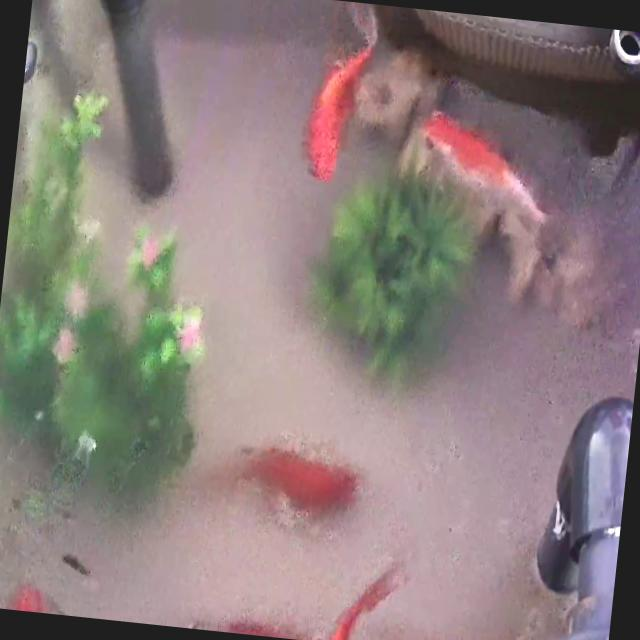fish: (268, 541, 408, 640), (221, 439, 360, 522), (303, 34, 368, 182), (205, 613, 308, 640)
